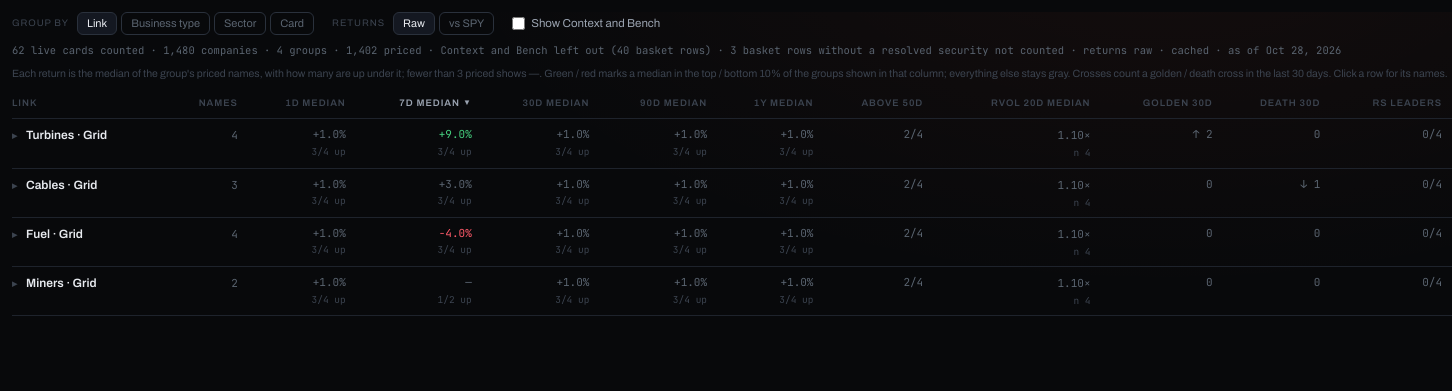
Test: Rotation Map — a row's names › a click expands the row into its names (7d highest first) and a second click folds it
Step 1. Click the row that starts with "Turbines · Grid" → (732,143), box [12,119,1451,168]
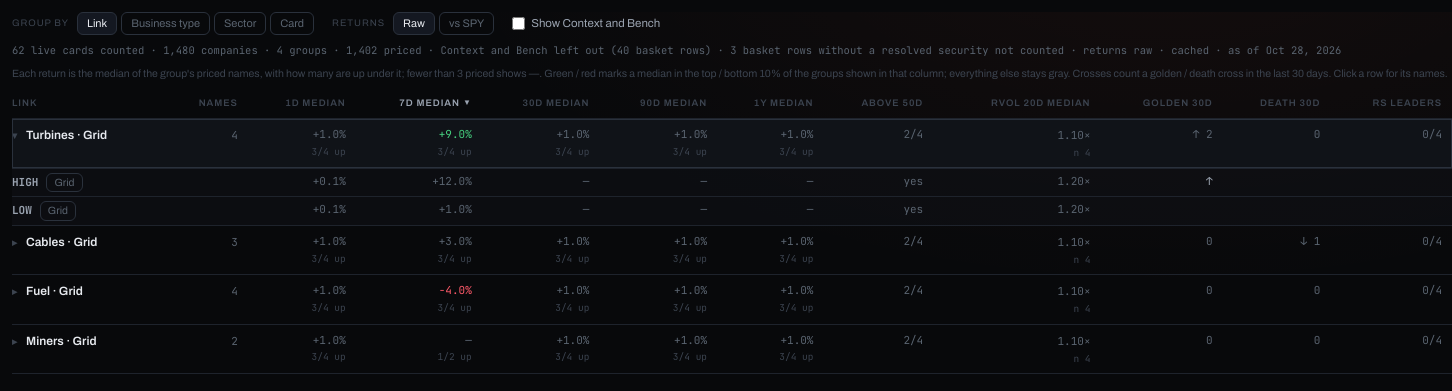
Expected: the text titled "golden cross: 50d crossed above 200d on" reads "↑", [1206,174,1213,188]
Step 2. Click the row that starts with "Turbines · Grid" → (732,143), box [12,119,1451,168]
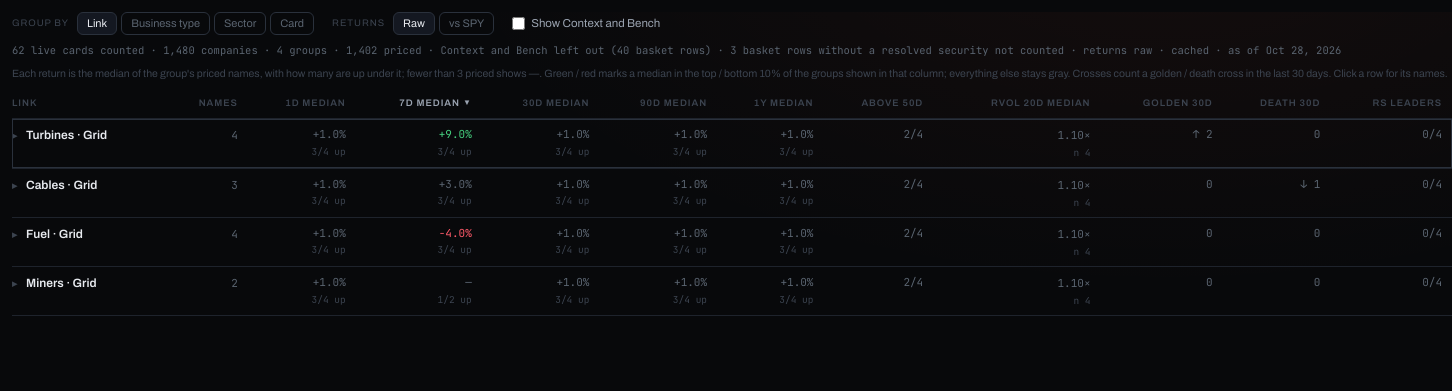
Expected: no rows with class "rm-name" are shown
